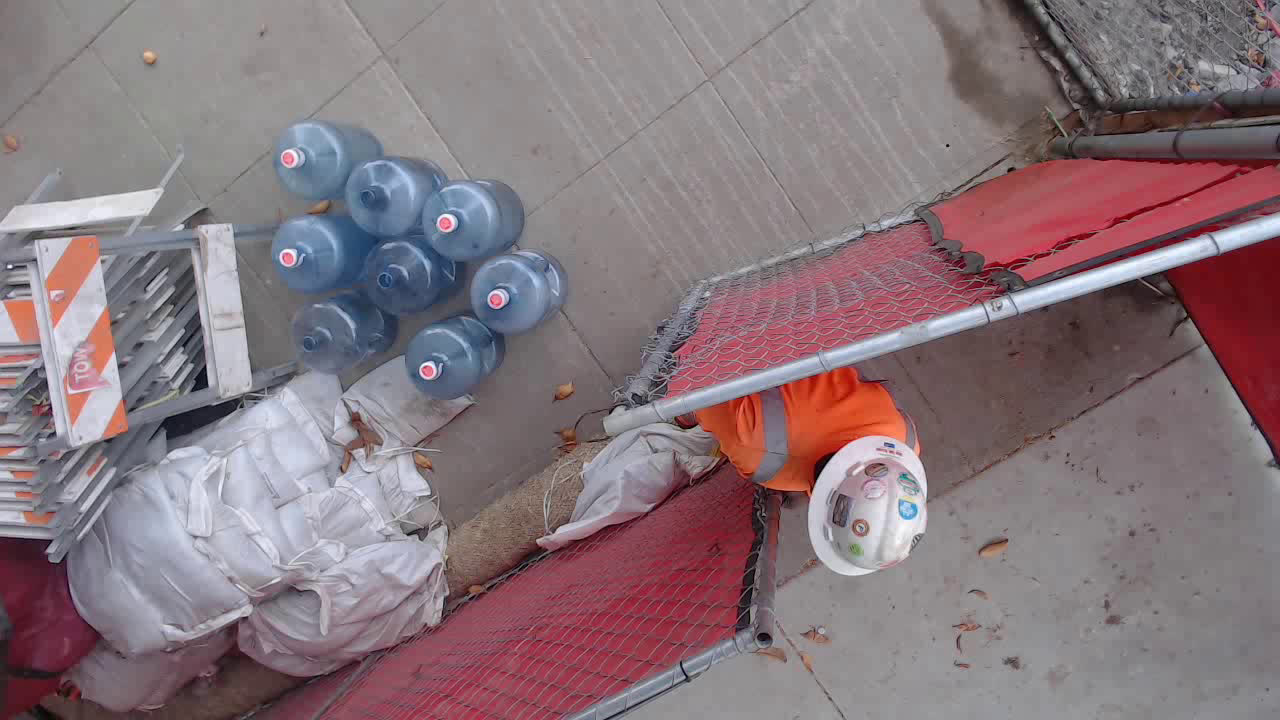hardhat: (808, 432, 929, 582)
safetyvest: (692, 363, 924, 495)
